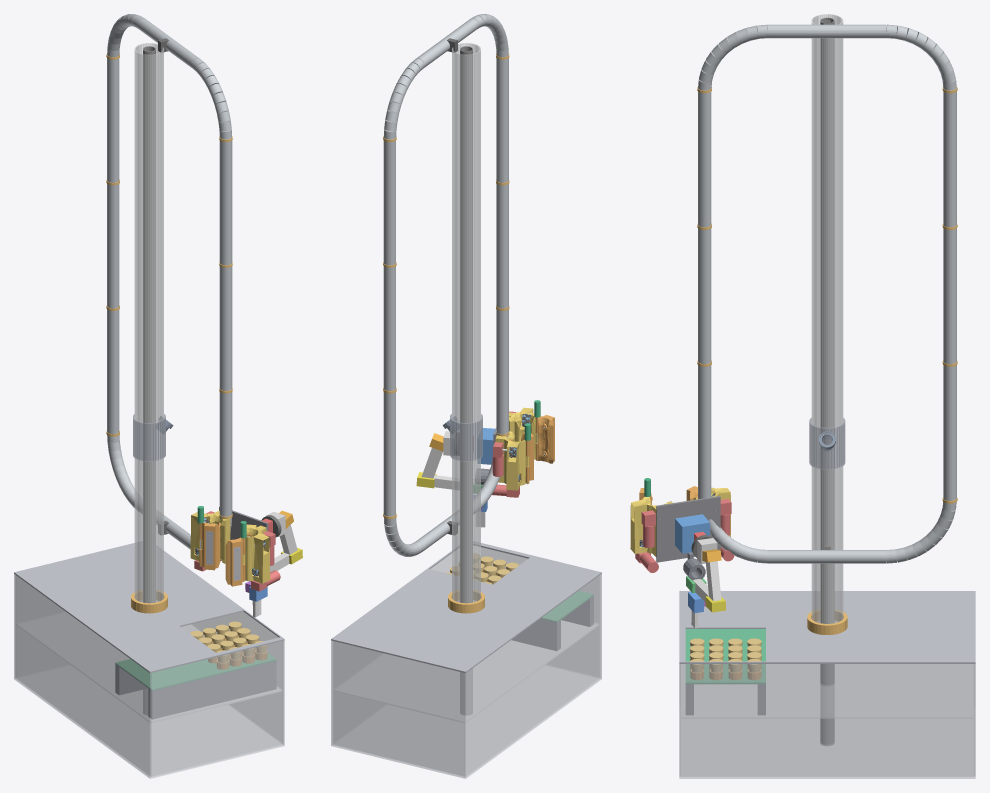
File: transplant-seedling-start-v11.glb
3 views of the same model, side by side, from view 1: azimuth 30°, elevation 25°; view 2: azimuth 150°, elevation 25°; view 3: azimuth 270°, elevation 25° (orthographic). The views are drawn at different scales.
Size of the model in its own units: 0.4986 by 1.9 by 0.8154.
